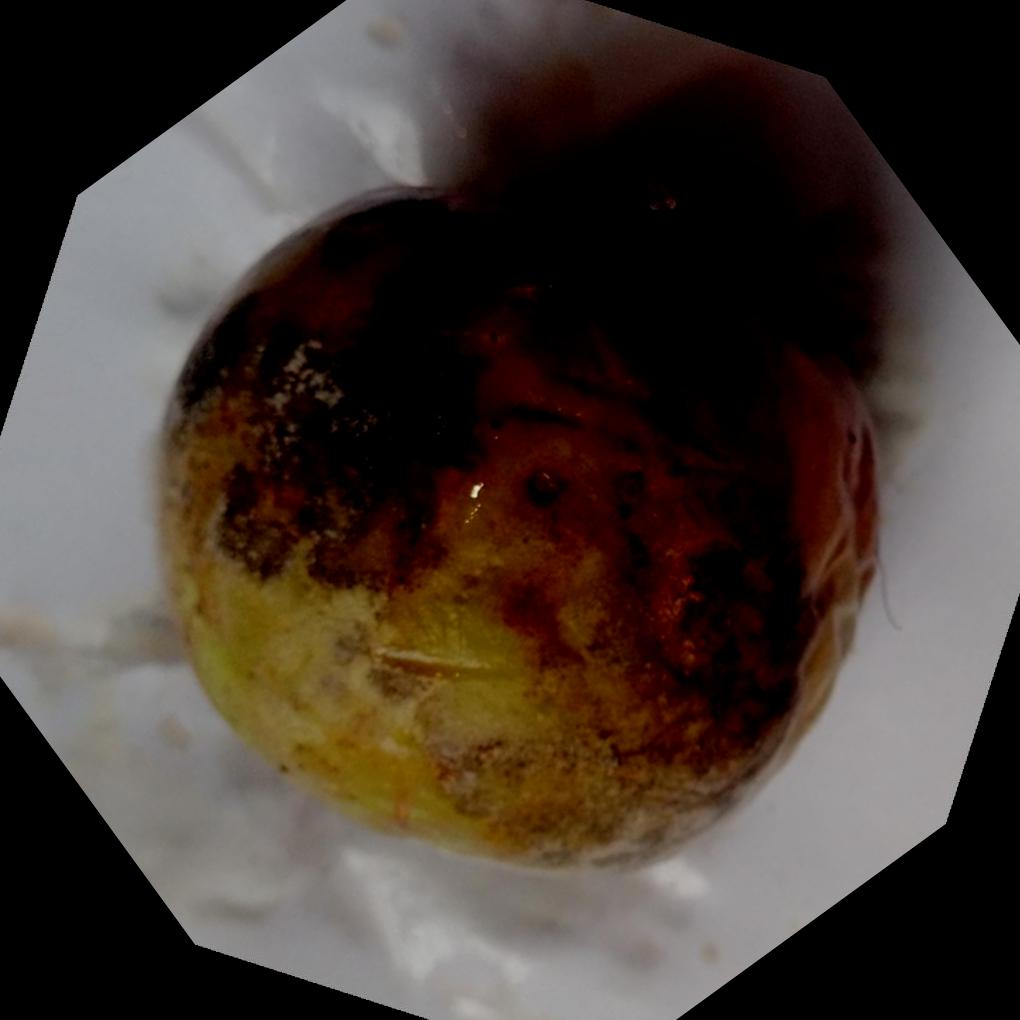FreshOrange: (154, 187, 886, 874)
